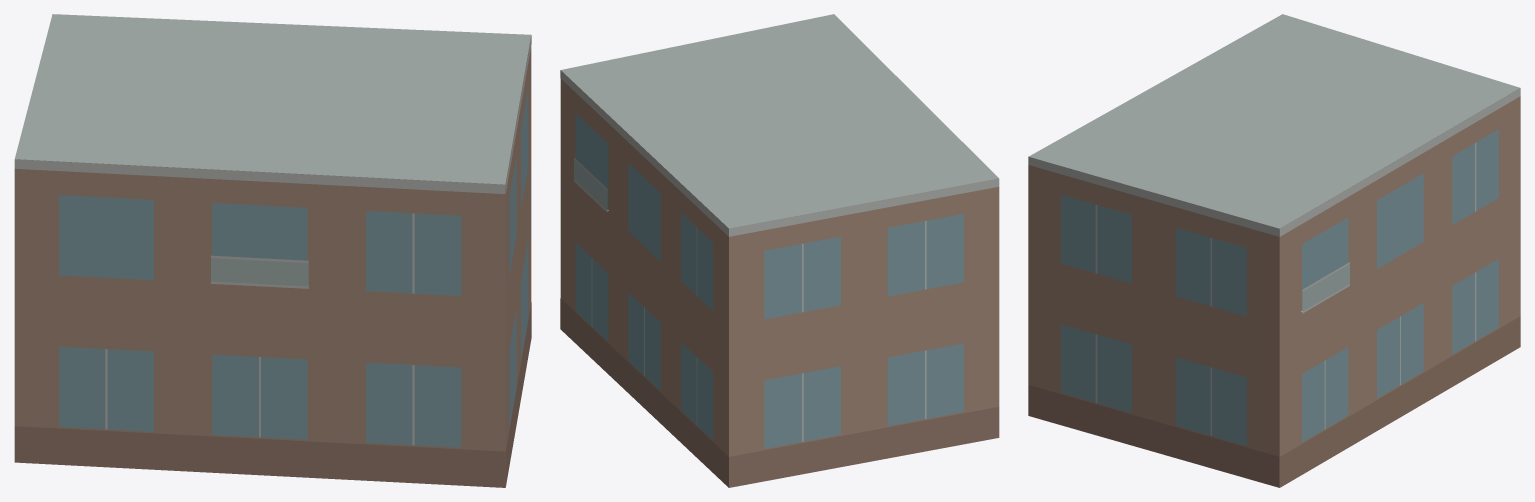
Rendered from survey-upis-32729342.glb.
The picture shows the model from 3 angles, left to right: view 1: azimuth 30°, elevation 25°; view 2: azimuth 150°, elevation 25°; view 3: azimuth 270°, elevation 25°; orthographic projection. The views are drawn at different scales.
Parts seen in each view (by area): view 1: survey-upis-32729342.tmp; view 2: survey-upis-32729342.tmp; view 3: survey-upis-32729342.tmp.
Part boxes in pixels (x1,y1,x2,y2): survey-upis-32729342.tmp: [14, 14, 531, 487]; survey-upis-32729342.tmp: [560, 14, 999, 487]; survey-upis-32729342.tmp: [1028, 14, 1520, 487].
Bounding box in the file's own units: 13.69 × 7.7 × 13.26.
